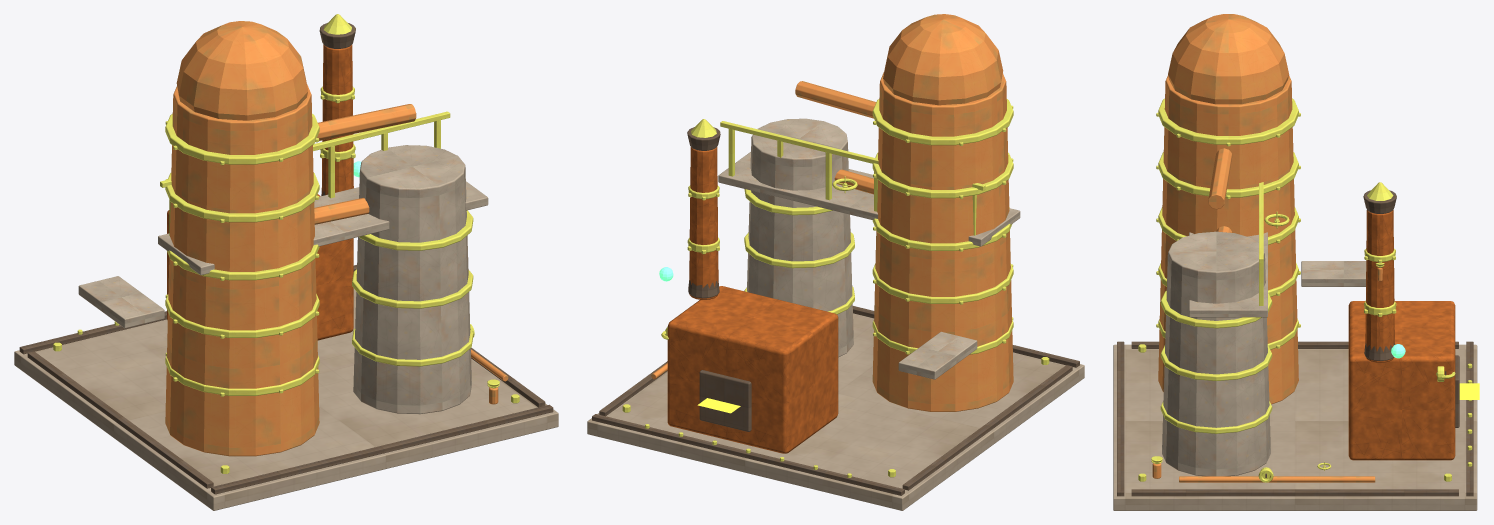
File: ff-refinery.glb
3 views of the same model, side by side, from view 1: azimuth 30°, elevation 25°; view 2: azimuth 150°, elevation 25°; view 3: azimuth 270°, elevation 25° (orthographic). The views are drawn at different scales.
Visible parts, largest first — view 1: PadPipe.011, TowerSecond, Pad.011, Bolt.019, PadLipN.011, Heater; view 2: PadPipe.011, Pad.011, Heater, TowerSecond, Bolt.019, PadLipN.011; view 3: PadPipe.011, Pad.011, TowerSecond, Heater, Bolt.019, PadLipN.011.
Boxes of the visible parts, bbox=[...] form: PadPipe.011: bbox=[165, 21, 508, 456]; TowerSecond: bbox=[78, 145, 488, 414]; Pad.011: bbox=[14, 288, 558, 510]; Bolt.019: bbox=[53, 14, 519, 473]; PadLipN.011: bbox=[19, 23, 553, 494]; Heater: bbox=[167, 44, 353, 340]; PadPipe.011: bbox=[651, 14, 1013, 411]; Pad.011: bbox=[587, 313, 1084, 510]; Heater: bbox=[667, 146, 838, 453]; TowerSecond: bbox=[718, 118, 1020, 379]; Bolt.019: bbox=[622, 99, 1049, 477]; PadLipN.011: bbox=[592, 127, 1079, 495]; PadPipe.011: bbox=[1152, 14, 1382, 482]; Pad.011: bbox=[1113, 344, 1477, 510]; TowerSecond: bbox=[1162, 231, 1366, 476]; Heater: bbox=[1348, 210, 1455, 460]; Bolt.019: bbox=[1138, 98, 1472, 481]; PadLipN.011: bbox=[1117, 190, 1473, 496].
Bounding box in the file's own units: 3 × 3.45 × 3.02.
11 materials, 8 textured.
